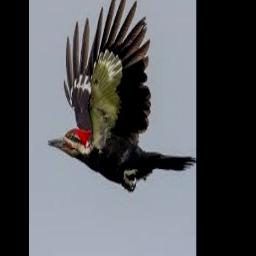Woodpecker: (46, 0, 196, 193)
